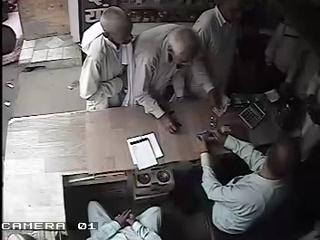Normal: (198, 107, 301, 240), (121, 23, 202, 134), (189, 0, 244, 111), (85, 200, 163, 240)
shoplifting: (78, 6, 134, 111)
